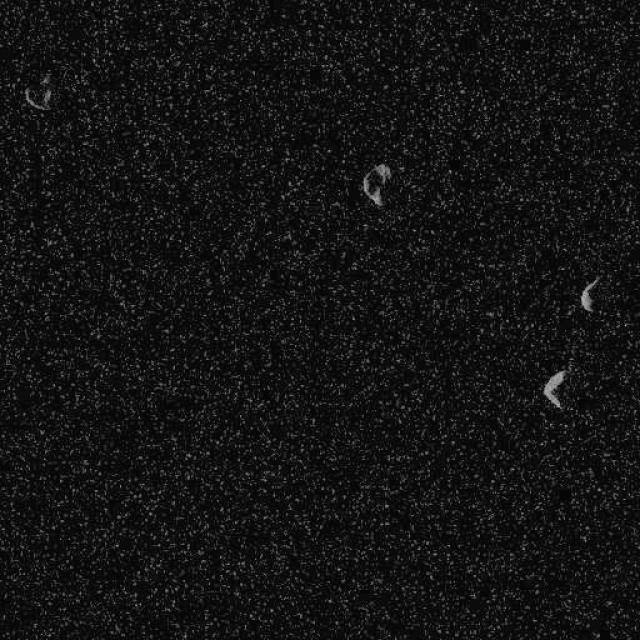D2: (361, 162, 391, 208), (24, 72, 54, 111), (542, 369, 566, 409), (579, 274, 600, 312)
